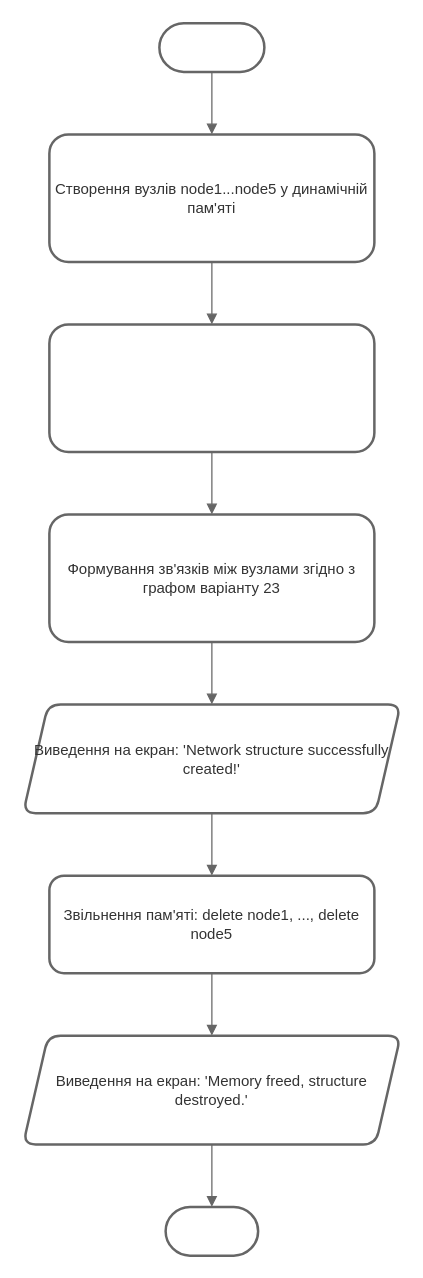
Some shapes in this 423 by 1278 pixel diagram are drawn without their labels. Each missing label, with the centre of its shape:
"Кінець" belongs at pixel 211 1230.
"Початок" belongs at pixel 211 46.
"Ініціалізація полів: data = 1..5, next1 = nullptr, next2 = nullptr" belongs at pixel 211 387.
